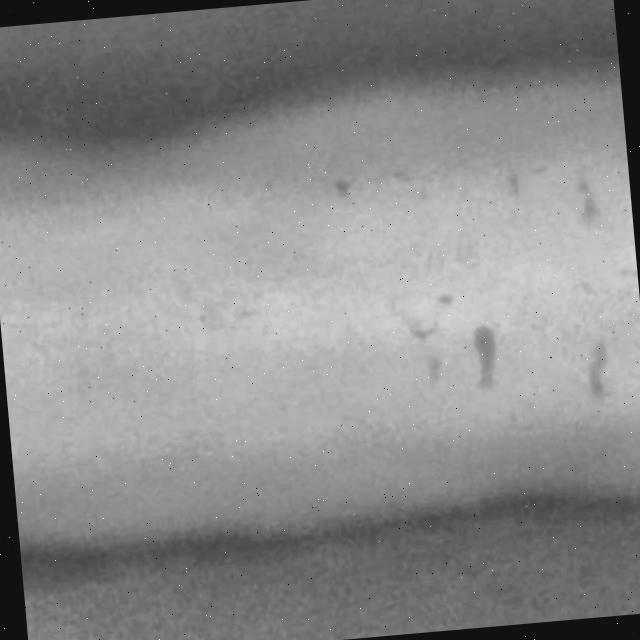Pore: (377, 286, 463, 414), (564, 327, 624, 408), (458, 318, 514, 398), (559, 158, 610, 242), (330, 176, 368, 206), (502, 172, 530, 210)
